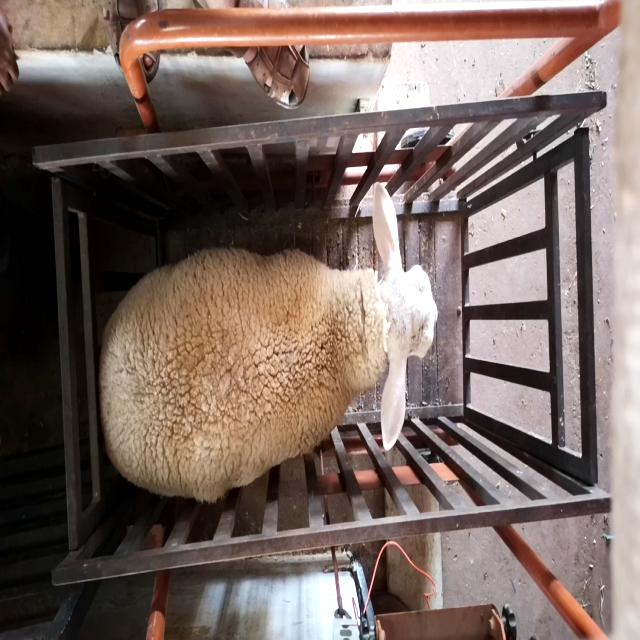sheep: (98, 181, 438, 504)
